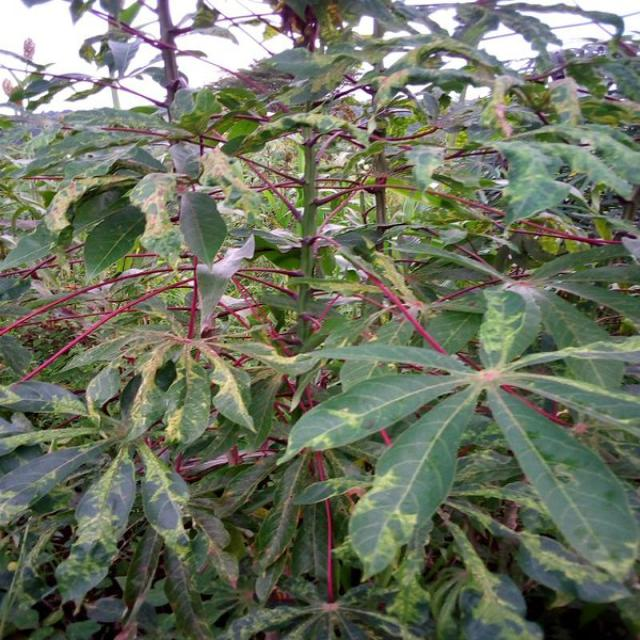cassava leaf: (0, 1, 638, 638), (484, 382, 638, 584), (346, 380, 481, 582)
